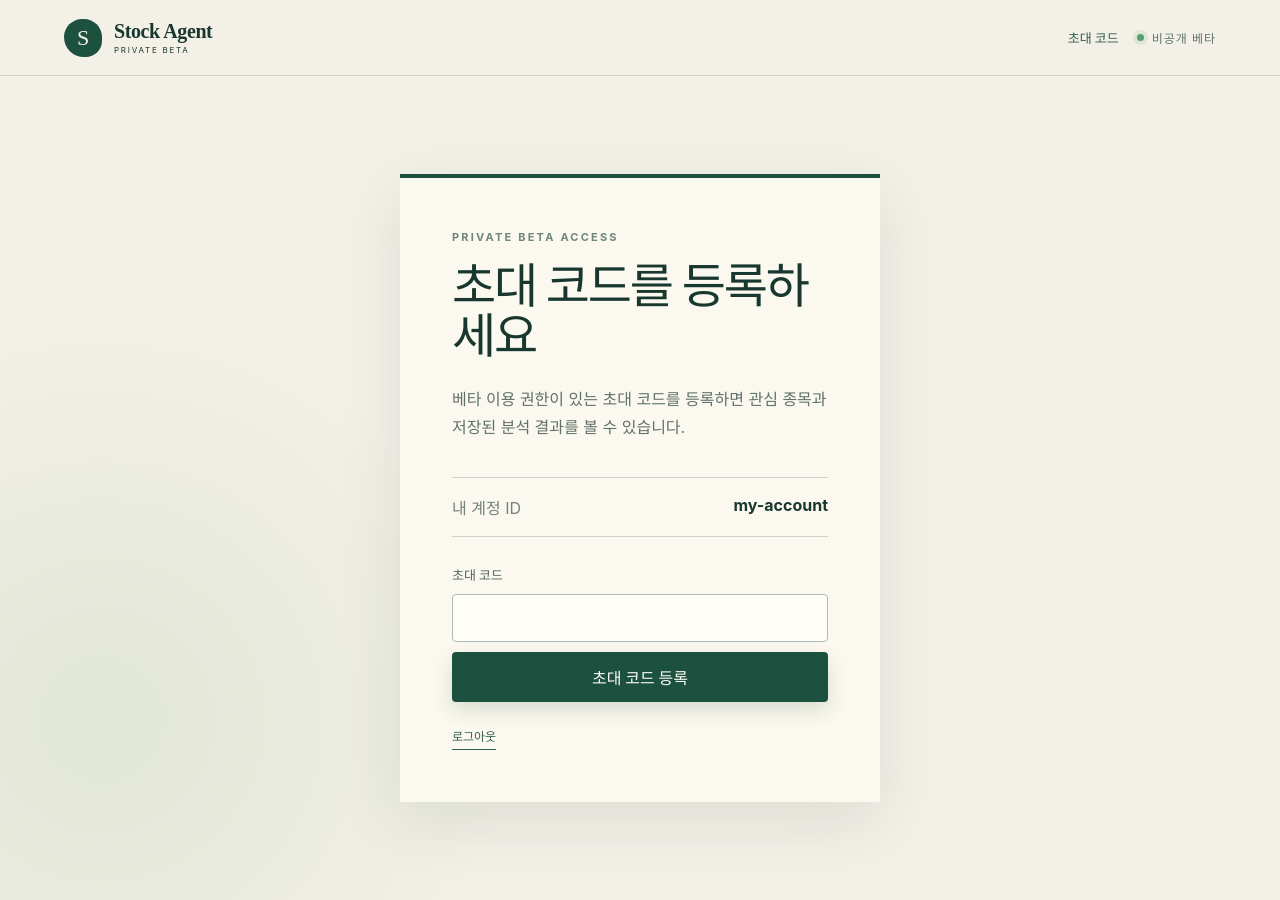
Test: beta web routes › reports an invalid invitation without granting access
Type "bad-code" into the field labelled "초대 코드" at [640, 618], box [452,594,828,642]
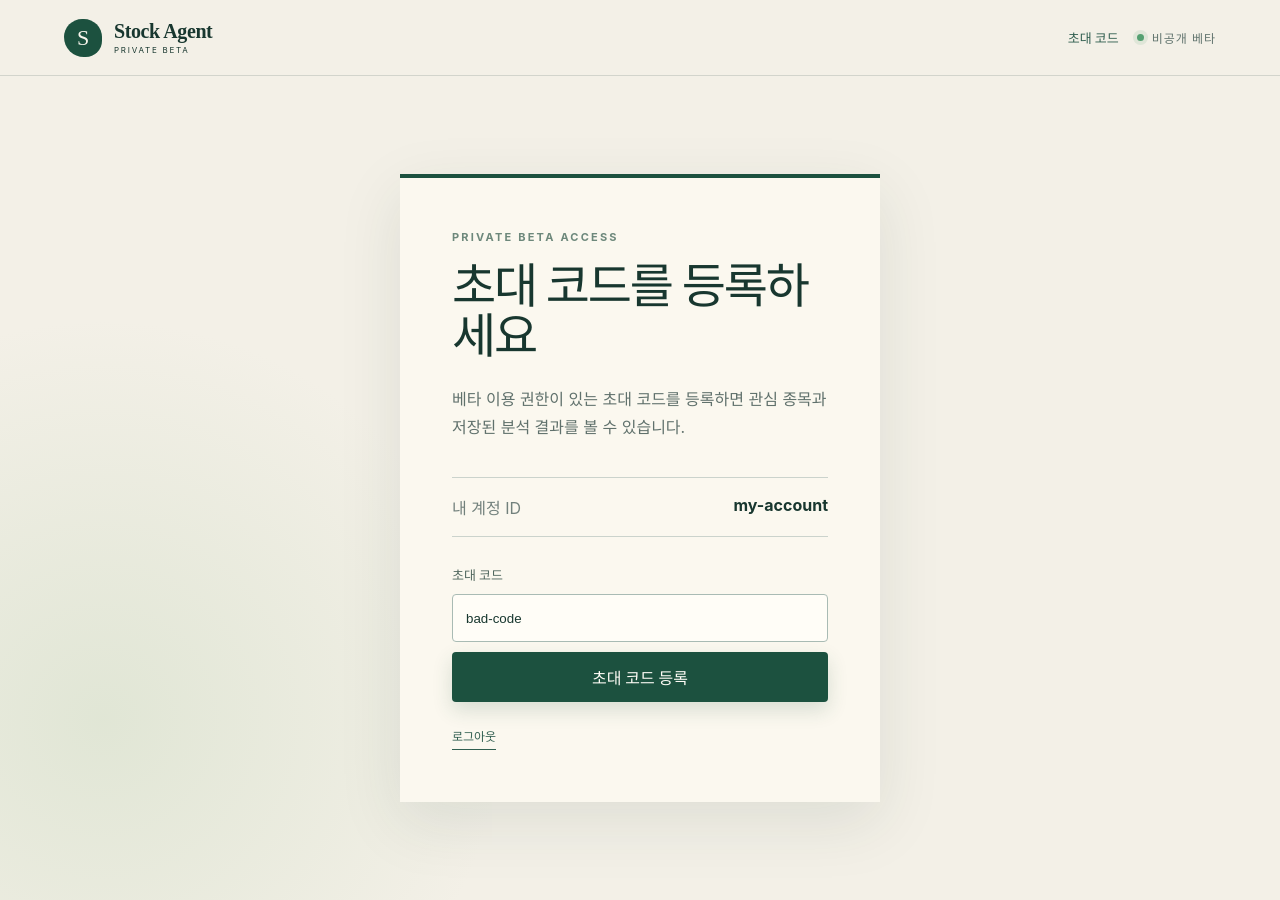
Click the button "초대 코드 등록" at [640, 677], box [452,652,828,702]
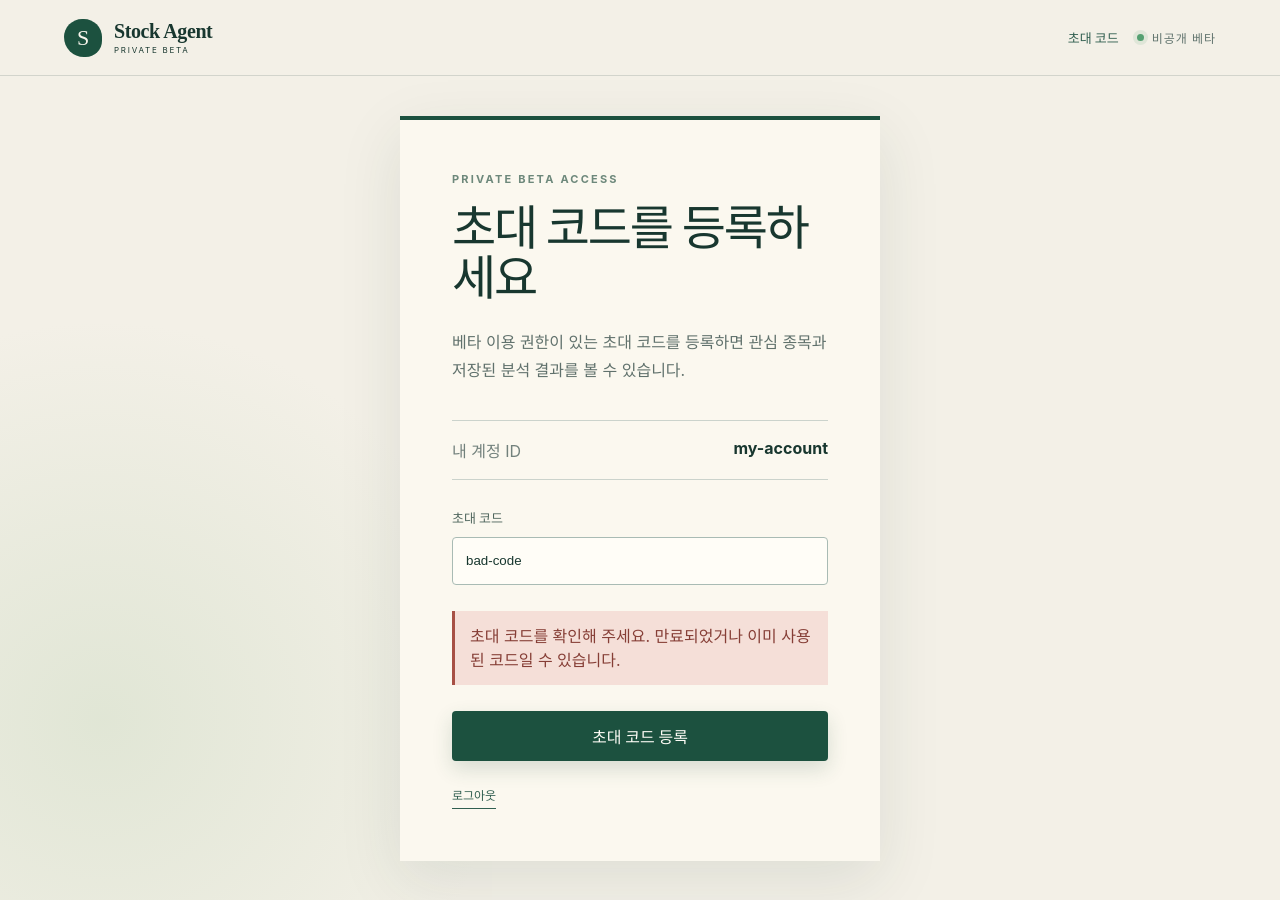
Result: the message shows "초대 코드를 확인" at [470,626,811,670]
